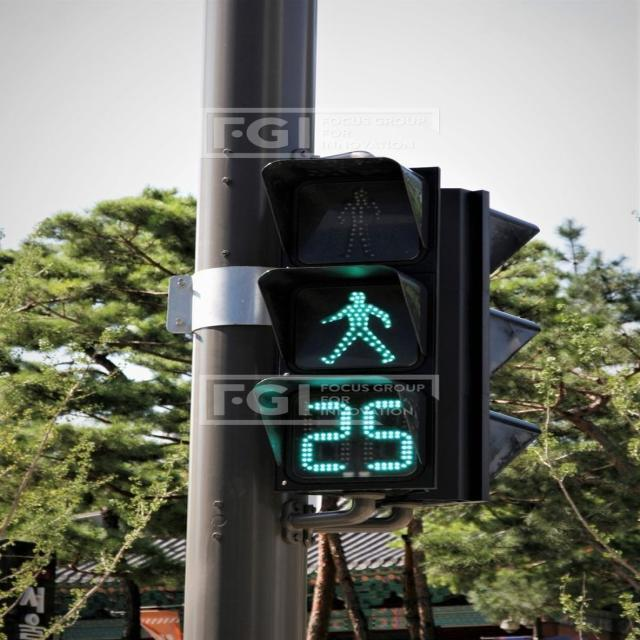greenlight: (269, 160, 432, 376)
